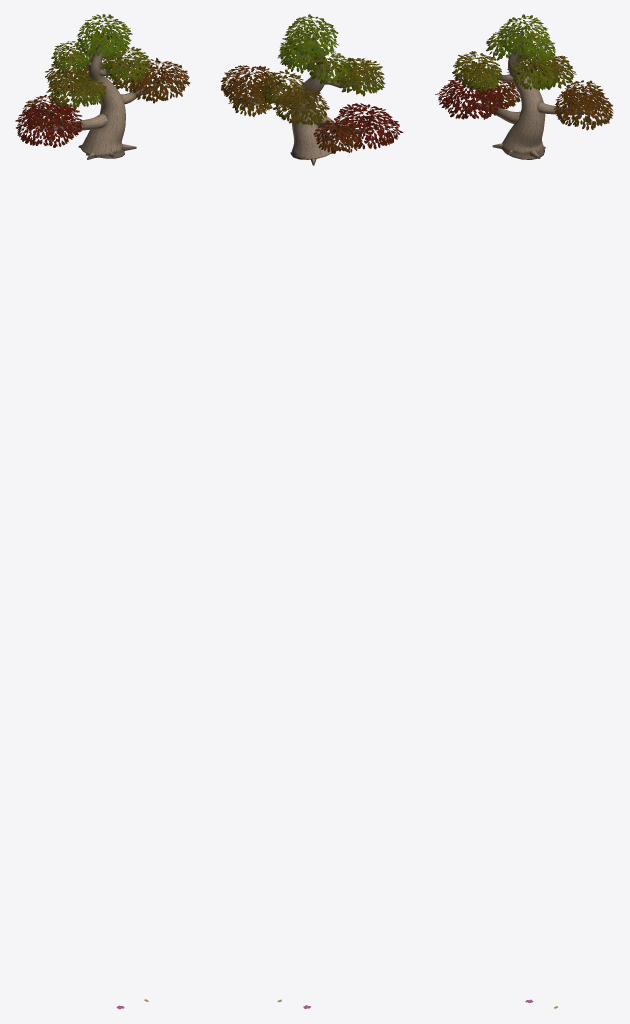
Rendered from bonsai-tree-hd.glb.
3 renders of one model, left to right at view 1: azimuth 30°, elevation 25°; view 2: azimuth 150°, elevation 25°; view 3: azimuth 330°, elevation 25°, orthographic. The views are drawn at different scales.
Visible parts, largest first — view 1: foliage, trunk; view 2: foliage, trunk; view 3: foliage, trunk.
Part boxes in pixels (box(x1,y1,x2,y2)): foliage: box(15, 14, 190, 147); trunk: box(38, 28, 167, 159); foliage: box(220, 14, 403, 153); trunk: box(239, 28, 383, 165); foliage: box(435, 14, 613, 130); trunk: box(454, 29, 597, 159).
Bounding box in the file's own units: 0.6504 × 3.55 × 0.3689.
Materials: 4 (4 with a texture image).
